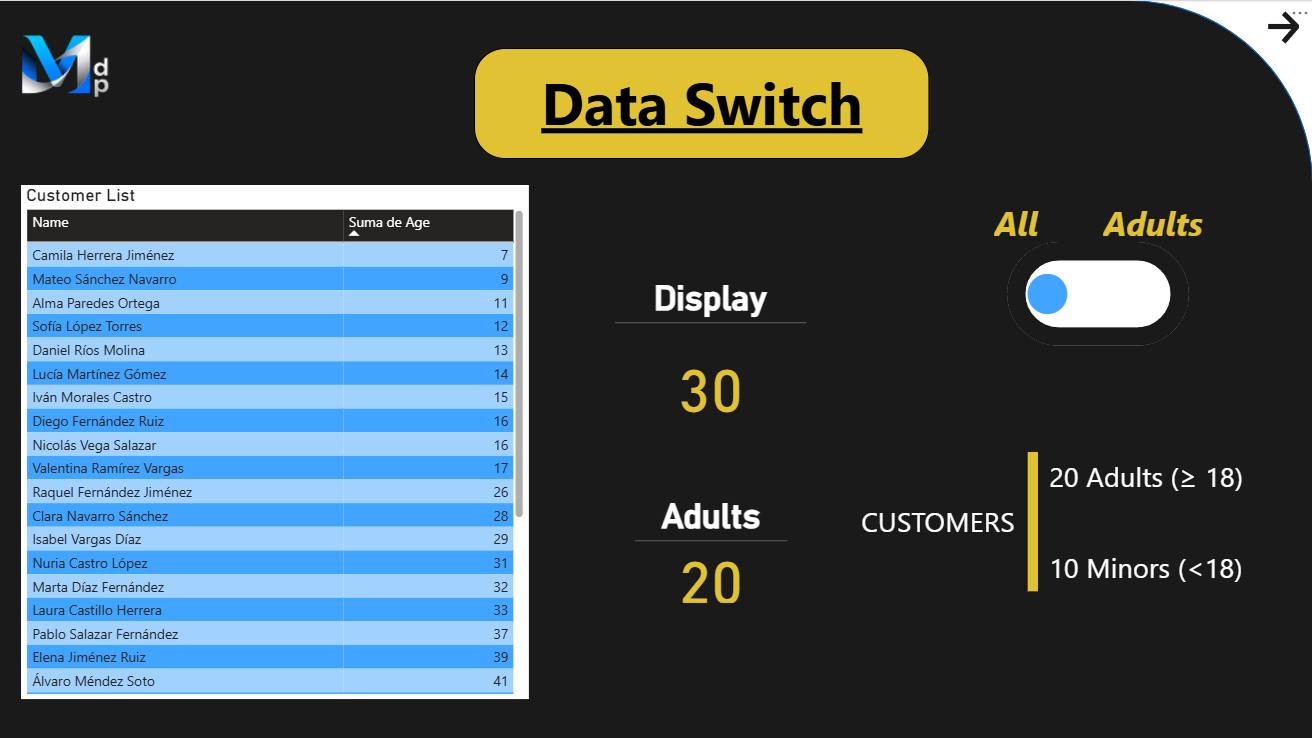

Layout of this report page (visuals, bound fields, positions):
{"tool":"powerbi","page":{"name":"Página 1","canvas":[1280,720],"ordinal":0},"visuals":[{"type":"shape","box":[0,0.5,1280,719.5],"z":0},{"type":"textbox","box":[835.9,484.4,182.5,53.7],"z":0,"group":"g1"},{"type":"tableEx","title":"Customer List","fields":{"Values":["List.Name","Sum(List.Age)"]},"box":[23.7,180.4,494,499.6],"z":1000},{"type":"textbox","box":[1018.4,441.1,216,53.7],"z":1000,"group":"g1"},{"type":"image","box":[23.7,28.2,85.7,73.3],"z":2000},{"type":"textbox","box":[1018.4,529.7,216,53.7],"z":2000,"group":"g1"},{"type":"card","title":"Display","fields":{"Values":["Medidas.#Customer count"]},"box":[601.1,271.8,186.1,159],"z":3000},{"type":"shape","box":[964.7,441.1,87.2,135.5],"z":3000,"group":"g1"},{"type":"card","title":"Adults","fields":{"Values":["Medidas.#Adults Count"]},"box":[620.3,483.8,147.7,108.3],"z":4000},{"type":"actionButton","box":[1230,8,43,40],"z":5000},{"type":"textbox","title":"Text Title","box":[463.5,47.4,443.2,108.3],"z":6000},{"type":"bookmarkNavigator","box":[982.1,236.1,177.1,102],"z":7000},{"type":"textbox","title":"Text All","box":[964.7,190.5,71.1,55],"z":8000},{"type":"textbox","title":"Text Adults","box":[1070.7,190.5,123.4,55],"z":9000},{"type":"group","id":"g1","title":"Grupo 1","box":[835.9,441.1,398.5,142.2],"z":10000}]}

Visuals, with their boxes in screenshot pixels (x1, y1, x2, y2), scaled from the page's 1280x720 canvas onto the 1312x738 screenshot:
shape: (0,1,1311,737)
textbox: (857,497,1044,552)
"Customer List" tableEx: (24,185,531,697)
textbox: (1044,452,1265,507)
image: (24,29,112,104)
textbox: (1044,543,1265,598)
"Display" card: (616,279,807,442)
shape: (989,452,1078,591)
"Adults" card: (636,496,787,607)
actionButton: (1261,8,1305,49)
"Text Title" textbox: (475,49,929,160)
bookmarkNavigator: (1007,242,1188,347)
"Text All" textbox: (989,195,1062,252)
"Text Adults" textbox: (1097,195,1224,252)
"Grupo 1" group: (857,452,1265,598)
